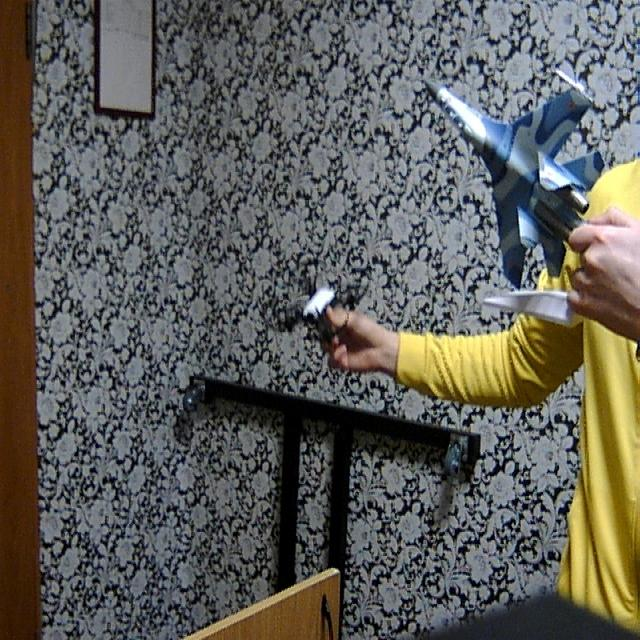drone: (260, 245, 382, 347)
